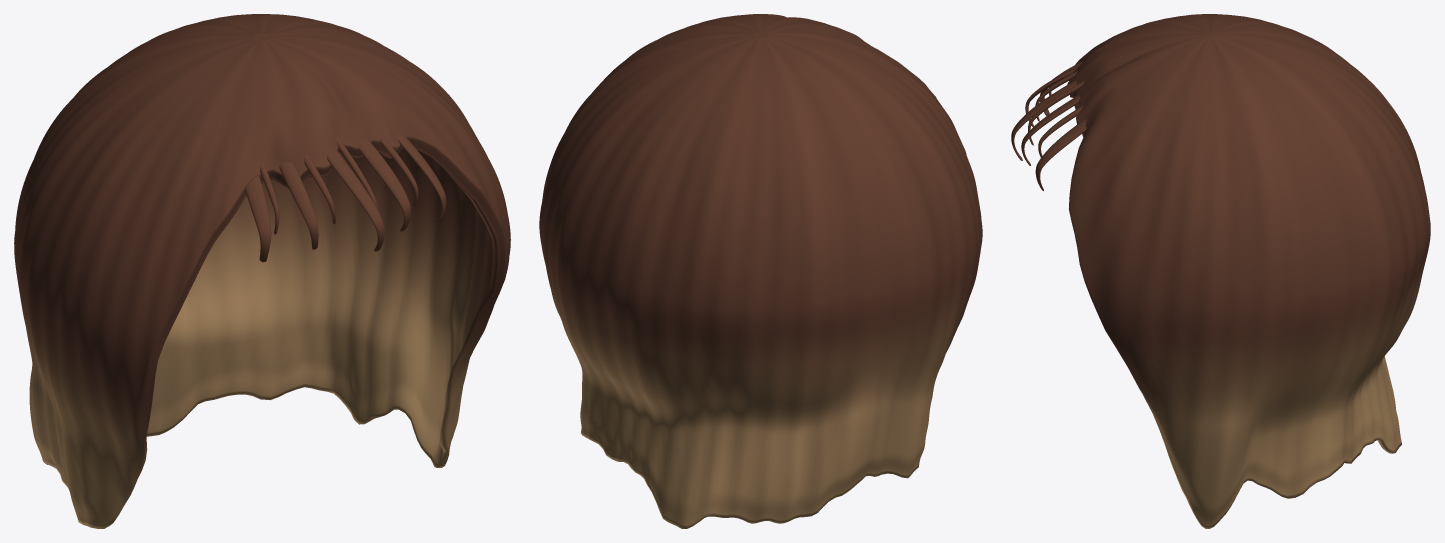
The model's file is side-sweep-none-ombre.glb.
3 renders of one model, left to right at view 1: azimuth 30°, elevation 25°; view 2: azimuth 150°, elevation 25°; view 3: azimuth 270°, elevation 25°, orthographic. The views are drawn at different scales.
Parts seen in each view (by area): view 1: Hair / layered lob, Fringe / arched wisp 05, Fringe / arched wisp 07, Fringe / arched wisp 01, Fringe / arched wisp 03, Fringe / arched wisp 09; view 2: Hair / layered lob; view 3: Hair / layered lob, Fringe / arched wisp 09, Fringe / arched wisp 05, Fringe / arched wisp 07.
Part boxes in pixels (bbox=[...]): Hair / layered lob: bbox=[14, 14, 510, 528]; Fringe / arched wisp 05: bbox=[327, 149, 384, 251]; Fringe / arched wisp 07: bbox=[358, 139, 410, 231]; Fringe / arched wisp 01: bbox=[245, 176, 271, 262]; Fringe / arched wisp 03: bbox=[279, 162, 318, 249]; Fringe / arched wisp 09: bbox=[397, 135, 446, 222]; Hair / layered lob: bbox=[539, 14, 982, 528]; Hair / layered lob: bbox=[1067, 14, 1430, 528]; Fringe / arched wisp 09: bbox=[1035, 118, 1086, 190]; Fringe / arched wisp 05: bbox=[1011, 80, 1076, 160]; Fringe / arched wisp 07: bbox=[1021, 95, 1080, 165].
Bounding box in the file's own units: 0.8388 × 0.8786 × 0.7979.
